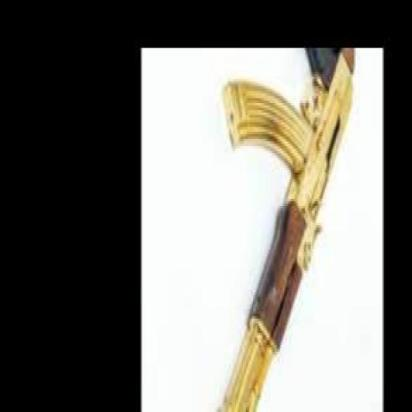Gun: (215, 48, 356, 412)
